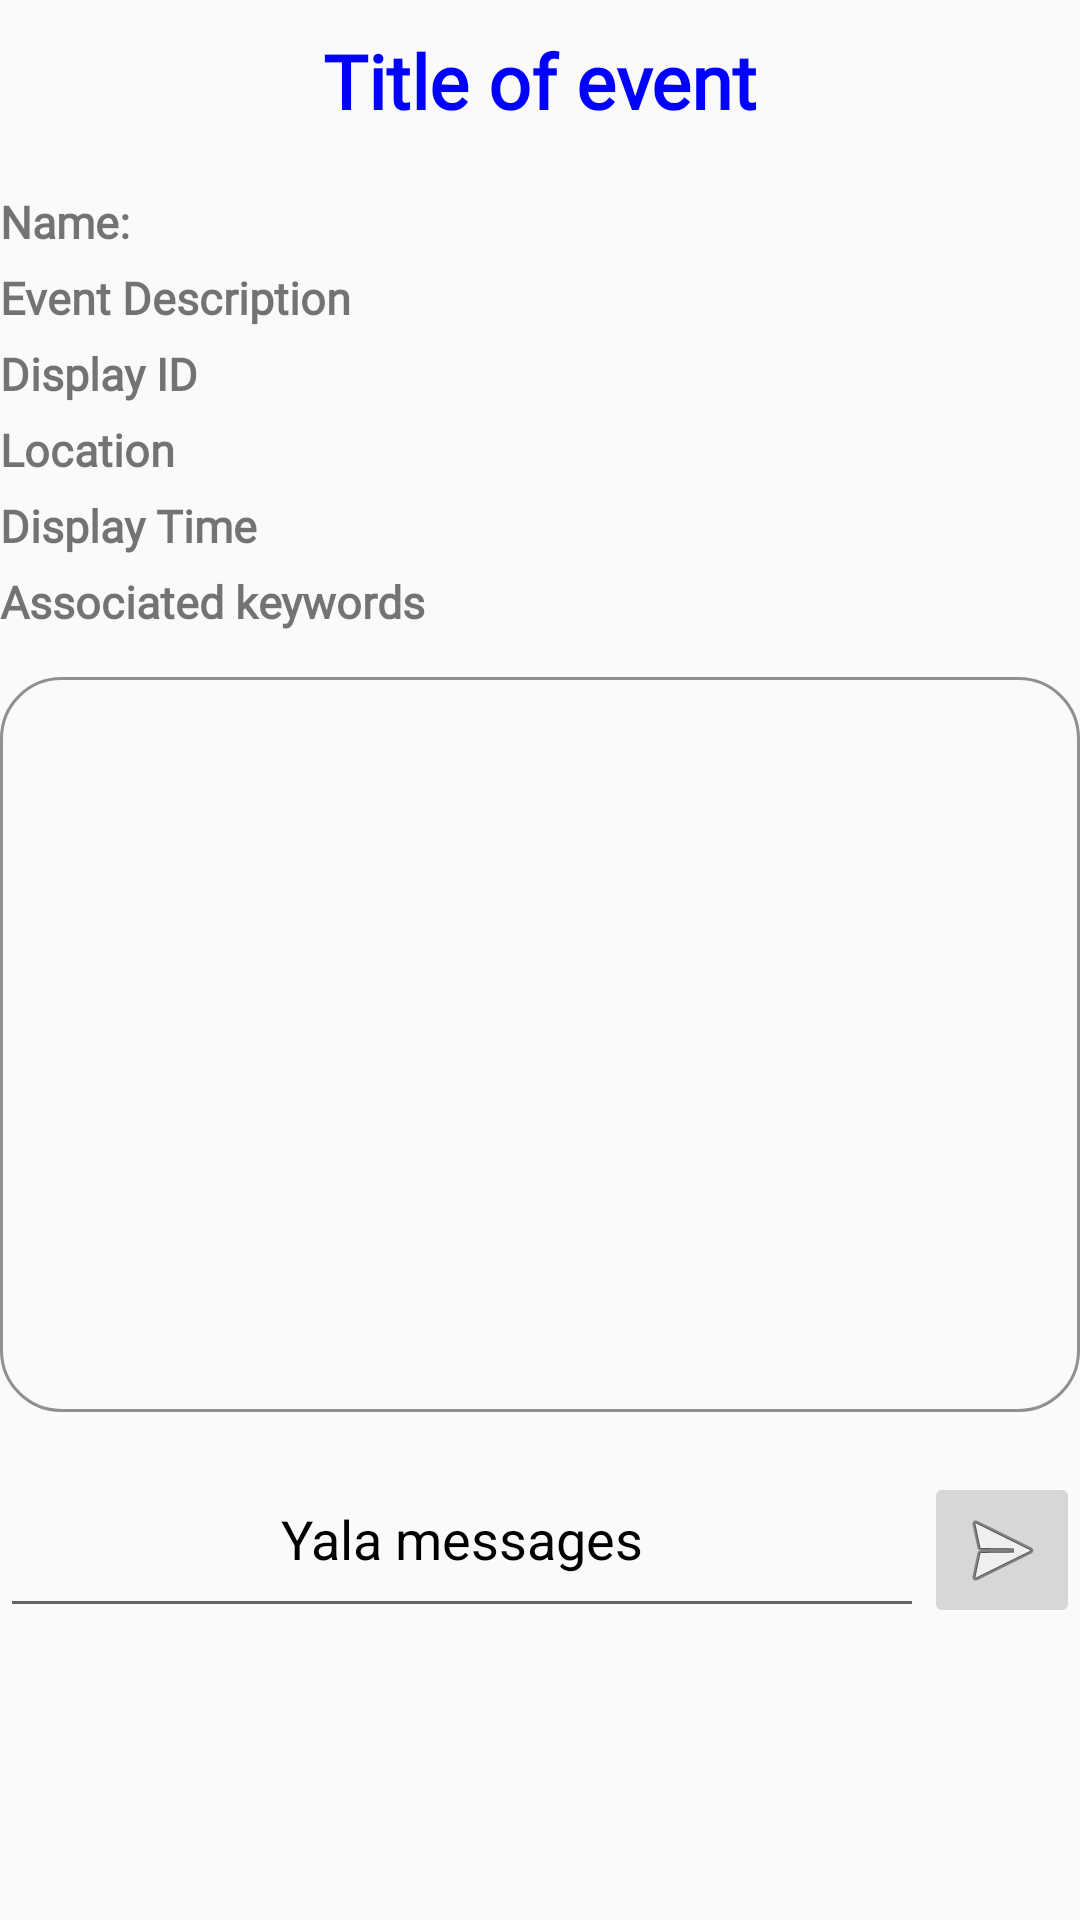

Point at icon controls on the screen. Image size 1080px x 1920px, points as point (x, y).
Send: point (1002, 1550)
